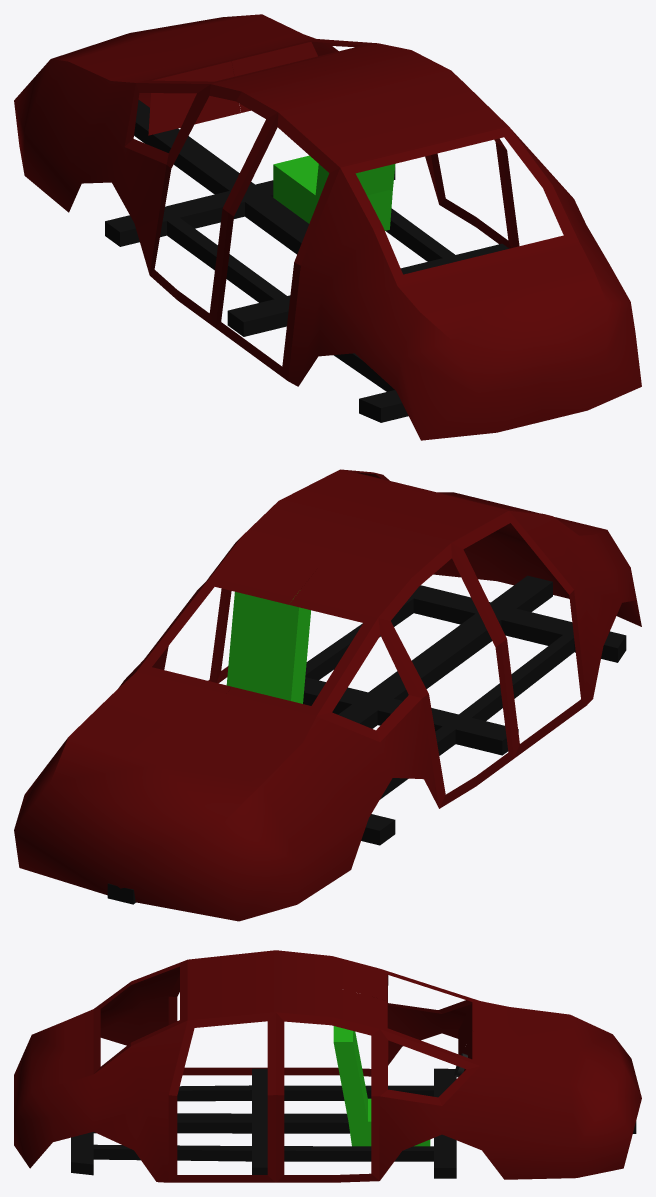
File: Car Without Bonnett Fix.fbx
3 views of the same model, one above another, from view 1: azimuth 30°, elevation 25°; view 2: azimuth 150°, elevation 25°; view 3: azimuth 270°, elevation 25° (orthographic). The views are drawn at different scales.
Parts seen in each view (by area): view 1: Body, Chassis, Seat; view 2: Body, Chassis, Seat; view 3: Body, Chassis, Seat.
Part boxes in pixels (x1,y1,x2,y2): Body: (14,14,641,440); Chassis: (105,100,508,422); Seat: (273,155,395,230); Body: (14,469,641,921); Chassis: (107,575,626,904); Seat: (226,591,310,703); Body: (14,950,641,1182); Chassis: (71,1068,636,1178); Seat: (333,1026,430,1146).
Size of the model in its own units: 1486 by 954 by 3667.
